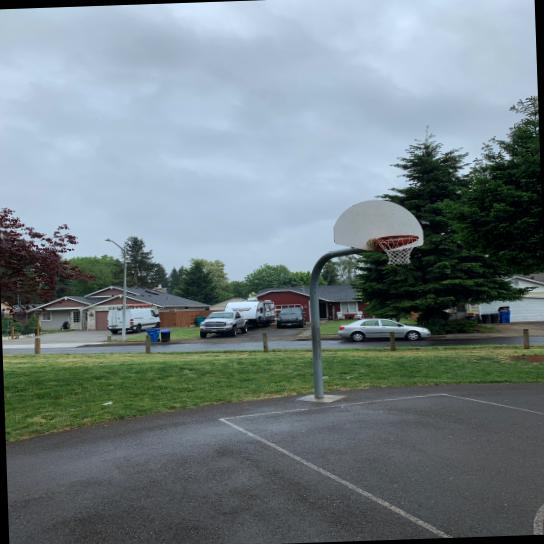basketball-hoop: (375, 234, 420, 266)
